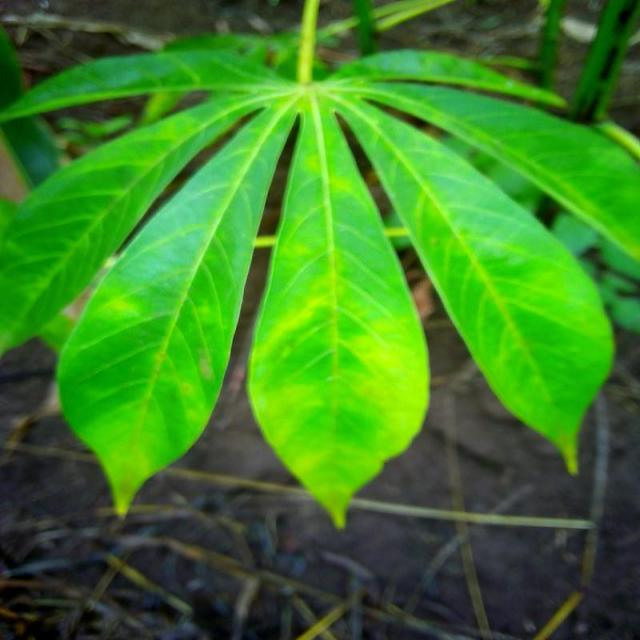cassava leaf: (2, 8, 638, 529), (330, 88, 617, 476), (55, 89, 302, 518), (246, 93, 432, 529)
